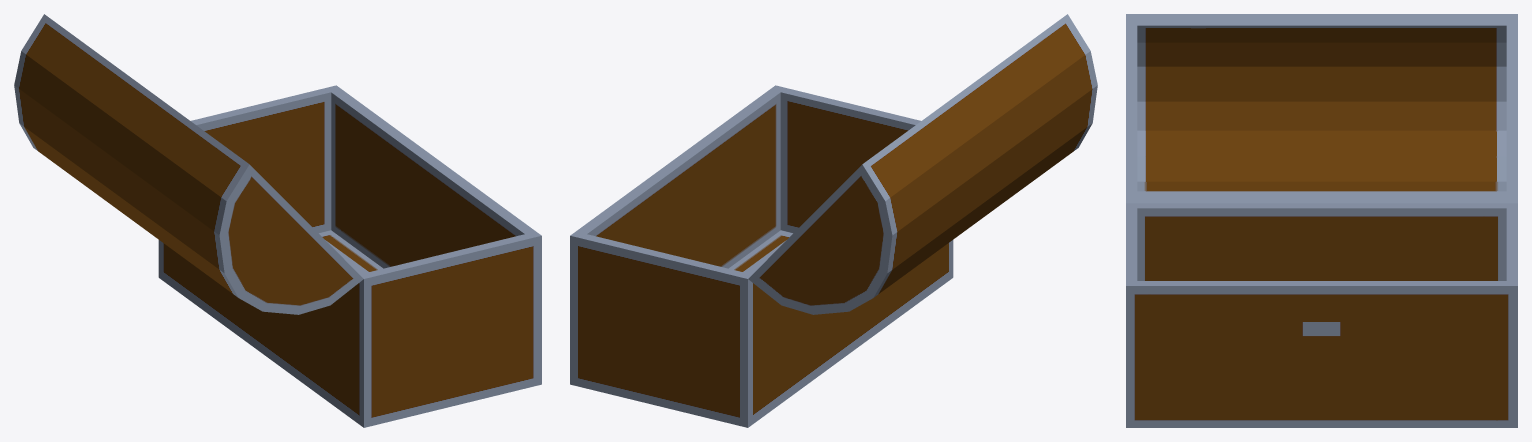
The model's file is chest_01.fbx.
3 views of the same model, side by side, from view 1: azimuth 30°, elevation 25°; view 2: azimuth 150°, elevation 25°; view 3: azimuth 270°, elevation 25° (orthographic). The views are drawn at different scales.
Visible parts, largest first — view 1: Chest; view 2: Chest; view 3: Chest.
Boxes of the visible parts, x1,y1,x2,y2 form: Chest: (14, 14, 541, 427); Chest: (570, 14, 1097, 427); Chest: (1126, 14, 1517, 427).
Bounding box in the file's own units: 362 × 313 × 400.
